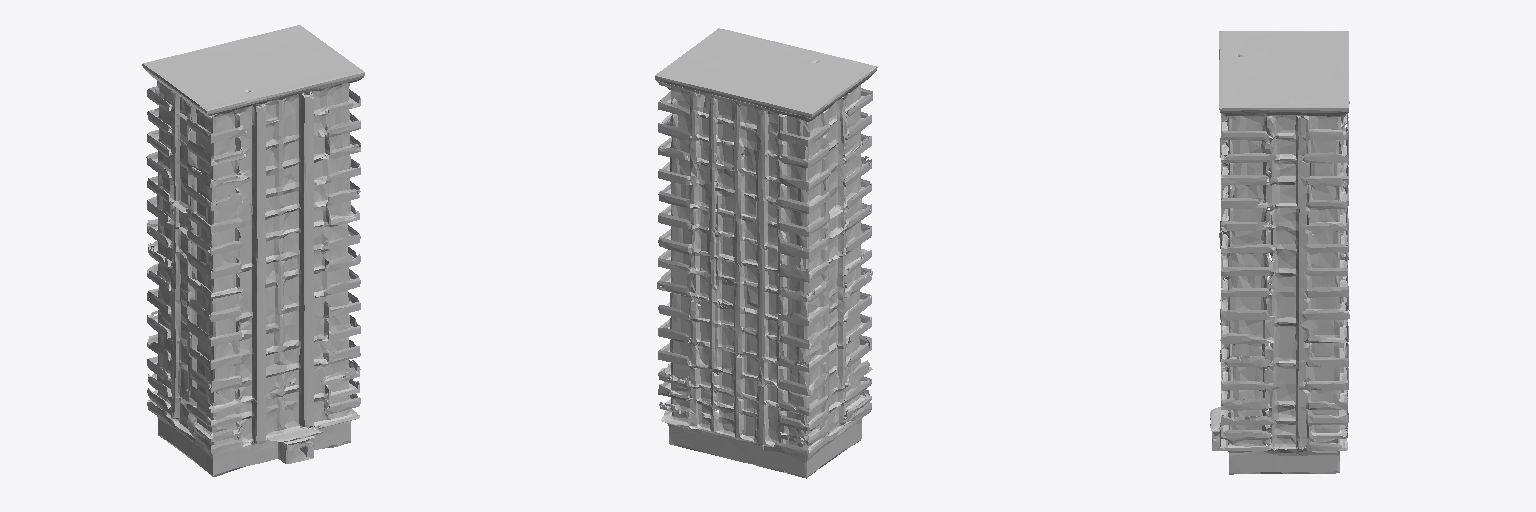
File: Edificio.obj
3 renders of one model, left to right at view 1: azimuth 30°, elevation 25°; view 2: azimuth 150°, elevation 25°; view 3: azimuth 270°, elevation 25°, orthographic.
Visible parts, largest first — view 1: Mesh_0; view 2: Mesh_0; view 3: Mesh_0.
Part boxes in pixels (x1,y1,x2,y2): Mesh_0: (142,25,364,476); Mesh_0: (655,28,877,478); Mesh_0: (1210,31,1349,474).
Size of the model in its own units: 0.8973 by 2.02 by 0.6867.